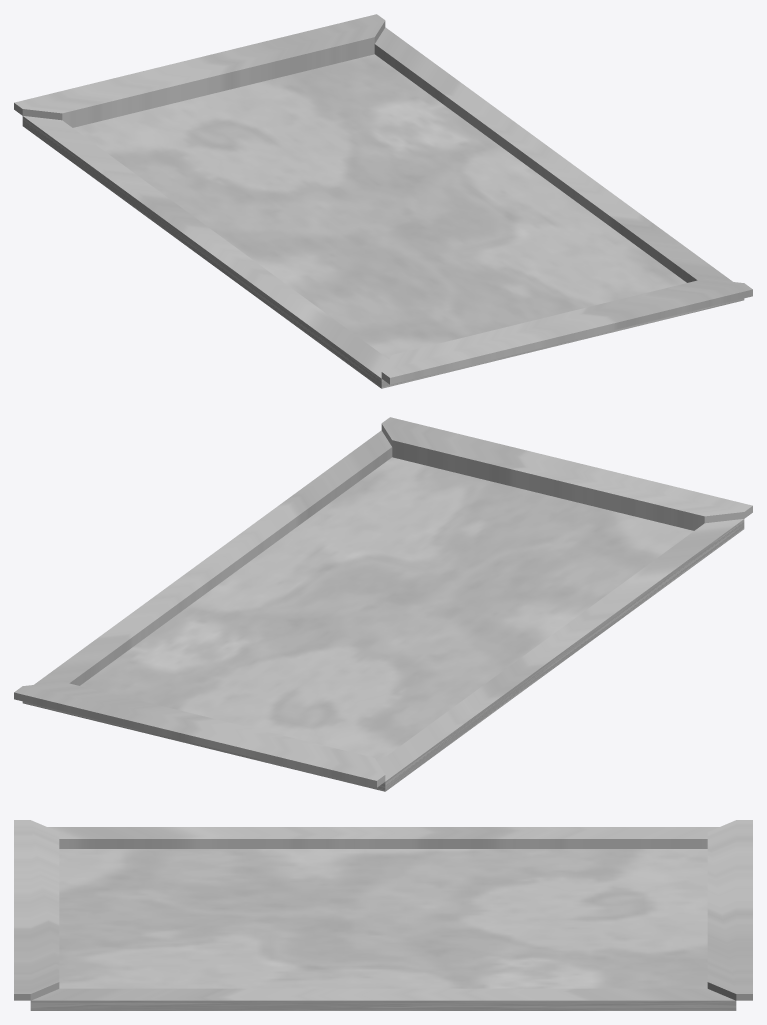
The model's file is tray.fbx.
3 renders of one model, top to bottom at view 1: azimuth 30°, elevation 25°; view 2: azimuth 150°, elevation 25°; view 3: azimuth 270°, elevation 25°, orthographic.
Parts seen in each view (by area): view 1: pCube201; view 2: pCube201; view 3: pCube201.
Boxes of the visible parts, <box> form: pCube201: <box>14,14,752,388</box>; pCube201: <box>14,417,752,791</box>; pCube201: <box>14,820,752,1010</box>.
Size of the model in its own units: 0.9464 by 0.0464 by 1.7.
1 material, 1 textured.
